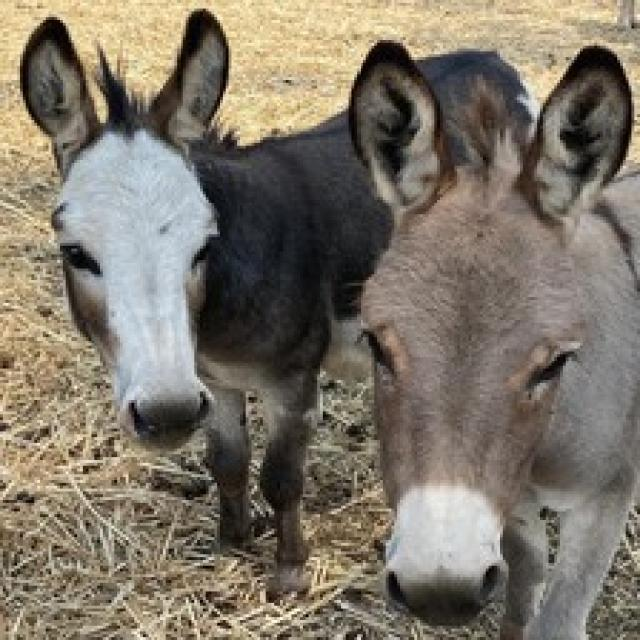Donkey: (0, 0, 515, 621), (364, 27, 639, 640)
